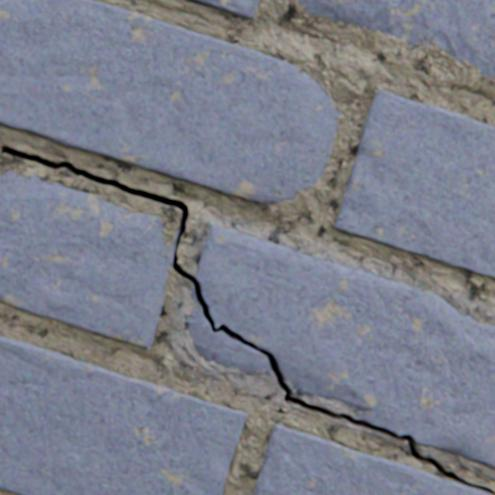brick: (0, 0, 340, 203), (0, 336, 246, 494), (0, 170, 173, 348), (334, 91, 494, 277), (253, 423, 491, 494), (298, 0, 494, 79), (186, 0, 259, 20)
broken_brick: (195, 225, 494, 466), (187, 285, 272, 374)
crack: (1, 146, 493, 494)
